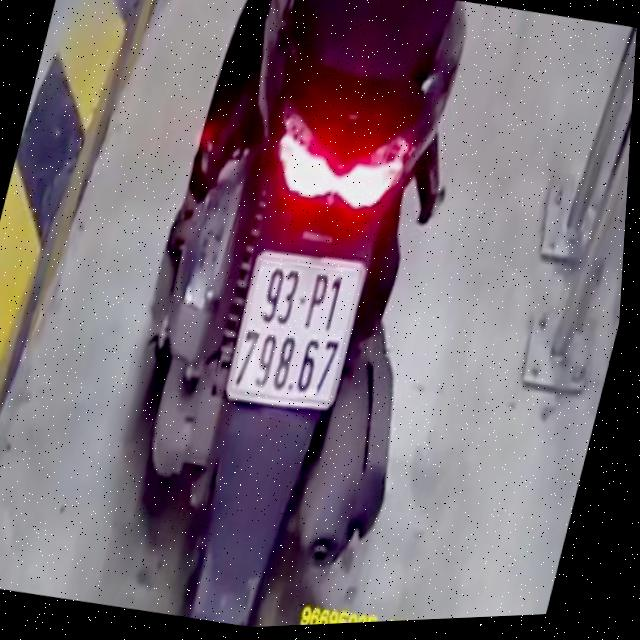motorcycle: (65, 0, 521, 635)
plate: (206, 234, 380, 423)
